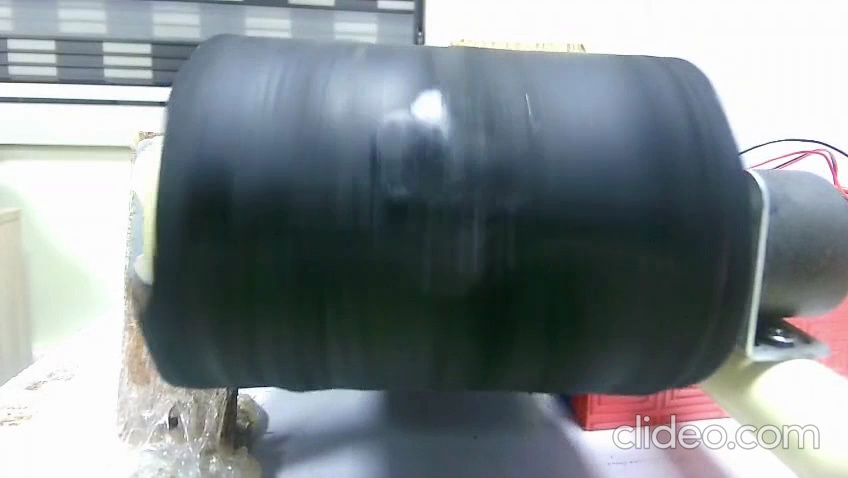hole: (401, 82, 456, 133)
